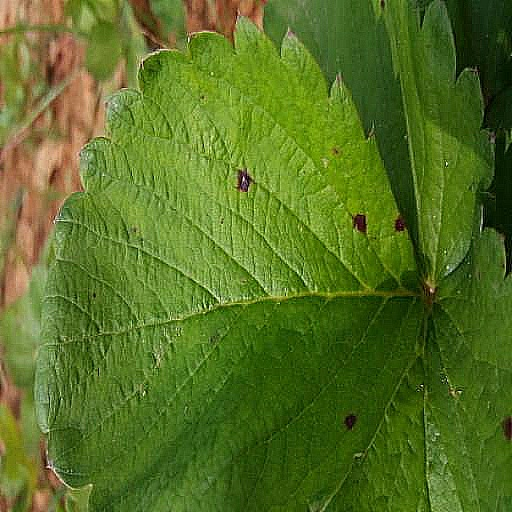Leaf Spot: (34, 0, 428, 505), (323, 0, 511, 285)
